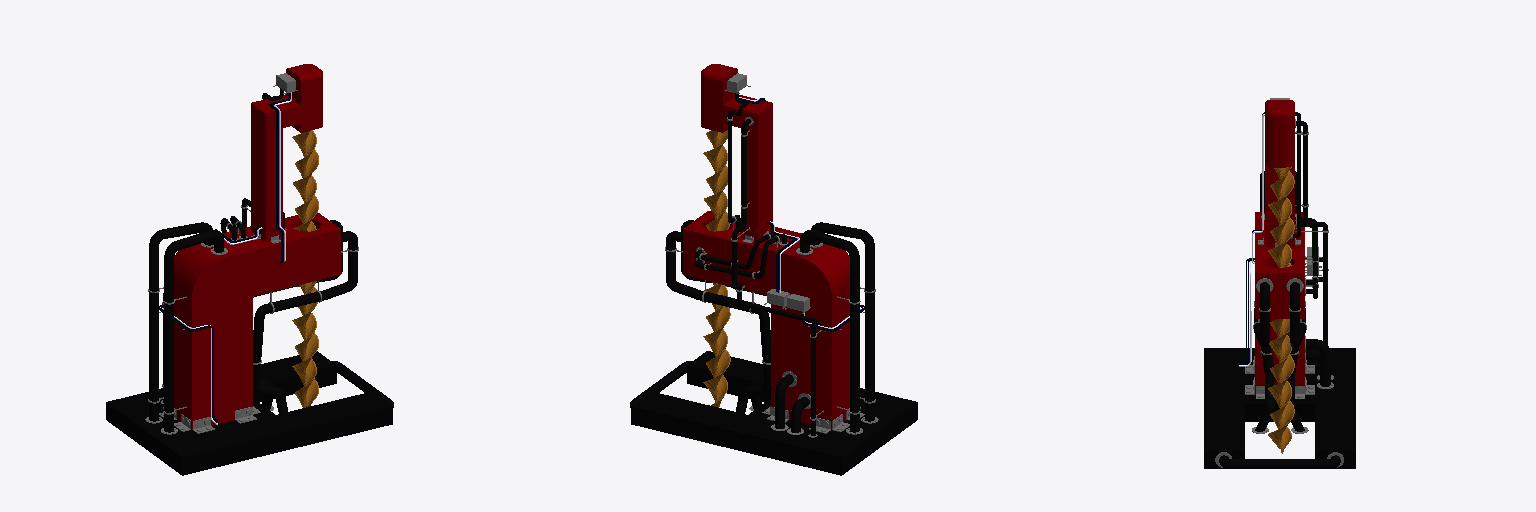
Rendered from oremine.obj.
3 renders of one model, left to right at view 1: azimuth 30°, elevation 25°; view 2: azimuth 150°, elevation 25°; view 3: azimuth 270°, elevation 25°, orthographic.
Parts seen in each view (by area): view 1: Circle.004; view 2: Circle.004; view 3: Circle.004.
Boxes of the visible parts, x1=… form: Circle.004: x1=106, y1=64, x2=393, y2=475; Circle.004: x1=630, y1=64, x2=917, y2=475; Circle.004: x1=1204, y1=98, x2=1355, y2=468.
Bounding box in the file's own units: 2.55 × 3.81 × 1.5.